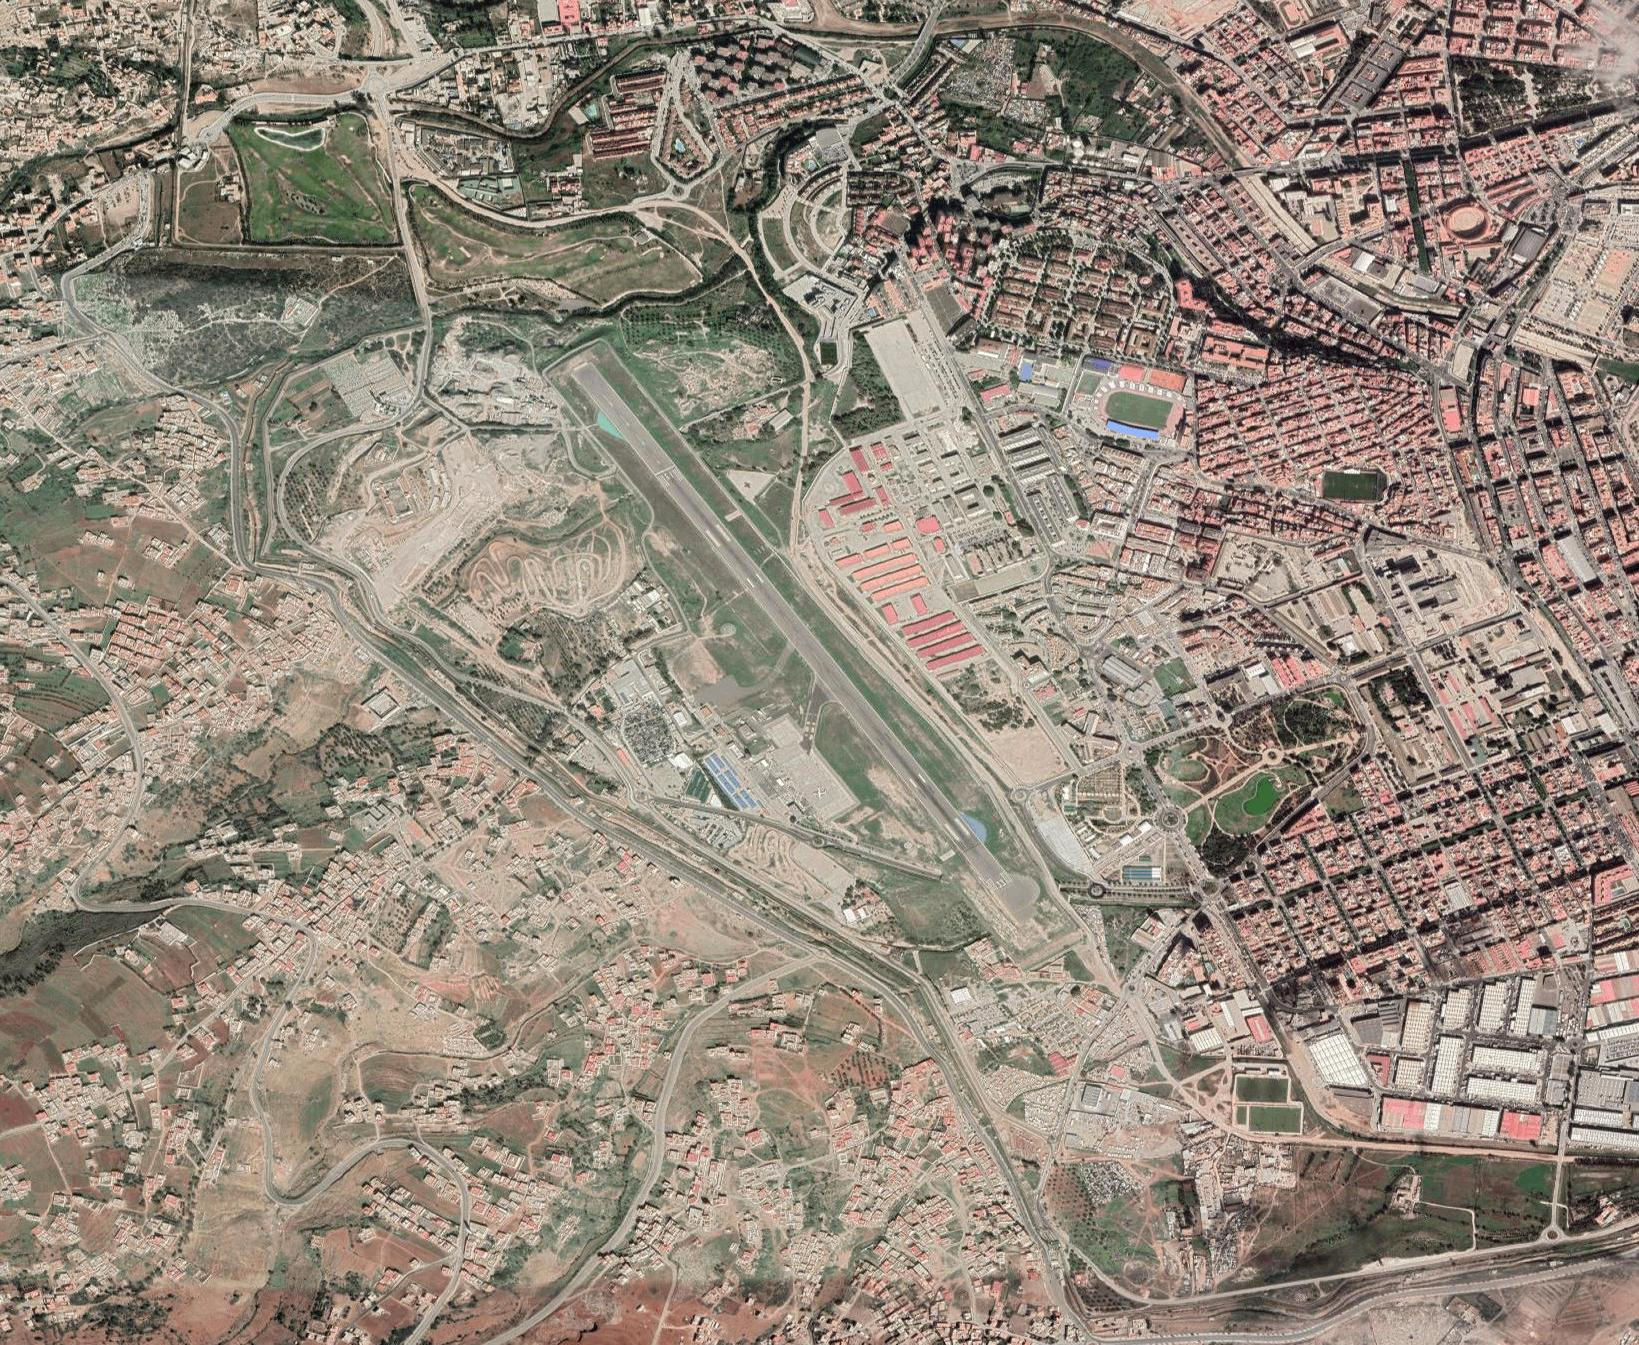airport: (534, 331, 1109, 962)
motorway: (599, 818, 701, 892), (501, 749, 594, 828), (700, 888, 809, 952), (215, 406, 255, 564), (415, 678, 502, 749), (956, 1099, 1018, 1188), (903, 1010, 965, 1099), (822, 952, 912, 1013), (1016, 1198, 1067, 1296), (339, 618, 415, 683), (131, 357, 215, 407), (253, 562, 340, 610), (1530, 1237, 1639, 1276), (1424, 1269, 1533, 1307), (1050, 1300, 1135, 1345), (1333, 1278, 1424, 1318), (74, 299, 131, 359), (59, 238, 114, 298), (1240, 1312, 1335, 1345), (1137, 1320, 1242, 1345)
